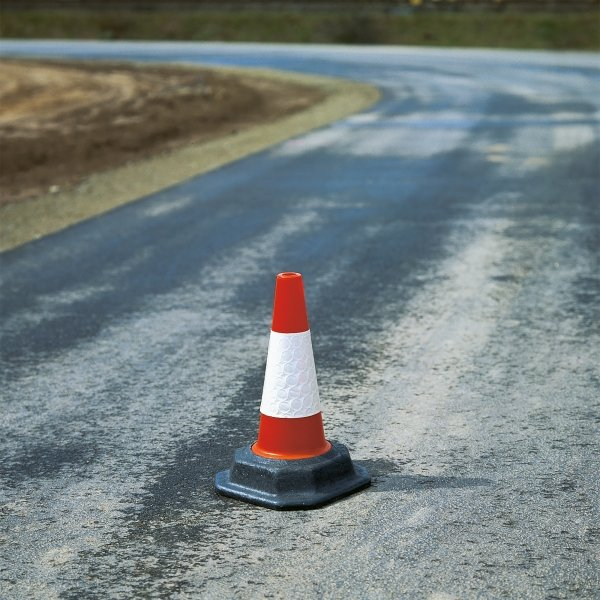Road_cone: (218, 266, 381, 514)
